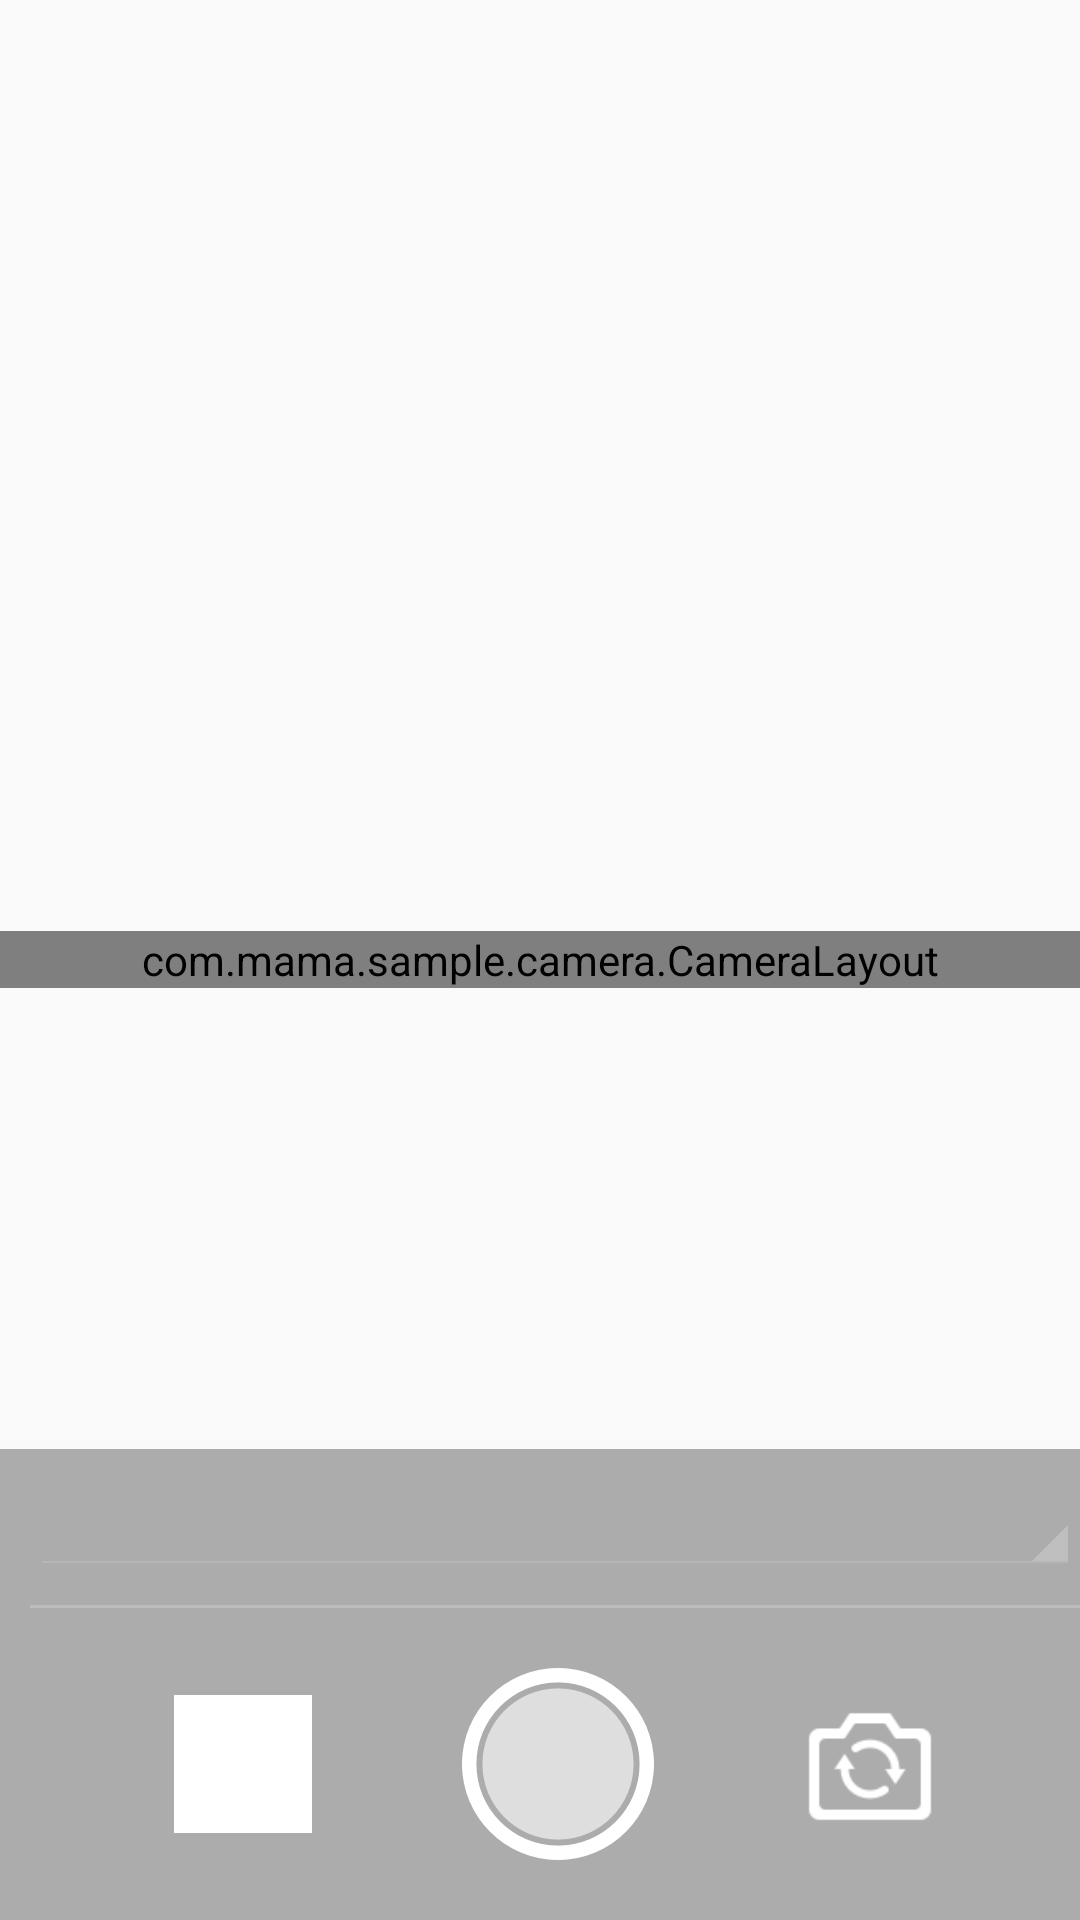

Where to tap for icons on this 1080*1920 app screen, as [x,y]:
camera switch: [870,1766]
take picture: [558,1764]
